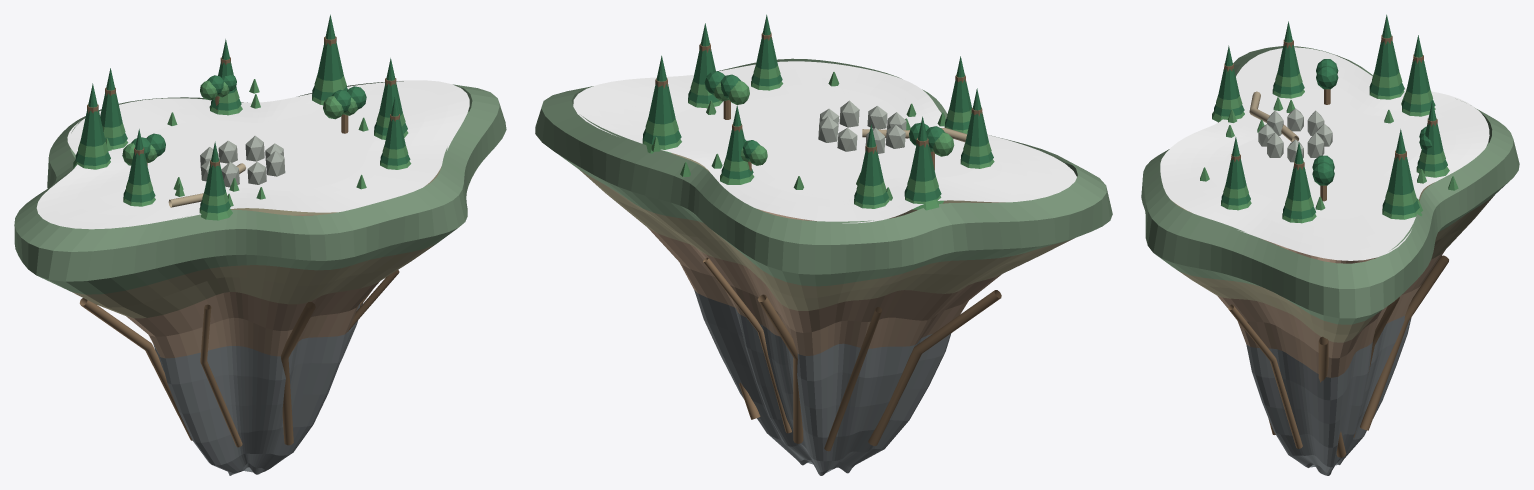
File: FI-011-Whisperpine-Crown.glb
3 renders of one model, left to right at view 1: azimuth 30°, elevation 25°; view 2: azimuth 150°, elevation 25°; view 3: azimuth 270°, elevation 25°, orthographic. The views are drawn at different scales.
Parts seen in each view (by area): view 1: FI-011_StratifiedFloatingCliff, FI-011_BuildableTop, FI-011_HangingRoot_04, FI-011_HangingRoot_06, FI-011_HangingRoot_05, Whisperpine_03_Bough_03, Whisperpine_00_Bough_03, Whisperpine_02_Bough_03, Whisperpine_01_Bough_03, Whisperpine_04_Bough_03, Whisperpine_06_Bough_03, Whisperpine_05_Bough_03; view 2: FI-011_StratifiedFloatingCliff, FI-011_BuildableTop, FI-011_HangingRoot_04, FI-011_HangingRoot_02, FI-011_HangingRoot_03, FI-011_HangingRoot_01, Whisperpine_03_Bough_03, Whisperpine_00_Bough_03, Whisperpine_02_Bough_03, Whisperpine_01_Bough_03, Whisperpine_06_Bough_03, Whisperpine_04_Bough_03 (+2 smaller); view 3: FI-011_StratifiedFloatingCliff, FI-011_BuildableTop, FI-011_HangingRoot_02, FI-011_HangingRoot_07, Whisperpine_03_Bough_03, Whisperpine_00_Bough_03, Whisperpine_04_Bough_03, Whisperpine_02_Bough_03, Whisperpine_01_Bough_03, Whisperpine_06_Bough_03, FI-011_HangingRoot_00, Whisperpine_05_Bough_03 (+5 smaller).
Part boxes in pixels (box(x1,y1,x2,y2)): FI-011_StratifiedFloatingCliff: box(14, 81, 506, 475); FI-011_BuildableTop: box(36, 80, 469, 229); FI-011_HangingRoot_04: box(79, 298, 192, 440); FI-011_HangingRoot_06: box(281, 302, 315, 445); FI-011_HangingRoot_05: box(200, 304, 242, 447); Whisperpine_03_Bough_03: box(317, 14, 343, 80); Whisperpine_00_Bough_03: box(80, 83, 105, 146); Whisperpine_02_Bough_03: box(100, 68, 122, 127); Whisperpine_01_Bough_03: box(128, 129, 150, 185); Whisperpine_04_Bough_03: box(379, 58, 402, 117); Whisperpine_06_Bough_03: box(204, 141, 225, 196); Whisperpine_05_Bough_03: box(385, 96, 405, 149); FI-011_StratifiedFloatingCliff: box(535, 58, 1112, 475); FI-011_BuildableTop: box(573, 61, 1076, 223); FI-011_HangingRoot_04: box(868, 290, 1001, 446); FI-011_HangingRoot_02: box(757, 294, 803, 443); FI-011_HangingRoot_03: box(824, 307, 881, 451); FI-011_HangingRoot_01: box(703, 257, 791, 433); Whisperpine_03_Bough_03: box(648, 55, 675, 124); Whisperpine_00_Bough_03: box(910, 116, 935, 181); Whisperpine_02_Bough_03: box(859, 124, 883, 186); Whisperpine_01_Bough_03: box(966, 88, 988, 146); Whisperpine_06_Bough_03: box(949, 56, 971, 112); Whisperpine_04_Bough_03: box(693, 23, 715, 84); FI-011_StratifiedFloatingCliff: box(1141, 46, 1519, 475); FI-011_BuildableTop: box(1160, 47, 1489, 260); FI-011_HangingRoot_02: box(1360, 255, 1448, 430); FI-011_HangingRoot_07: box(1228, 304, 1302, 448); Whisperpine_03_Bough_03: box(1388, 129, 1413, 194); Whisperpine_00_Bough_03: box(1374, 14, 1399, 77); Whisperpine_04_Bough_03: box(1287, 142, 1310, 201); Whisperpine_02_Bough_03: box(1407, 35, 1430, 94); Whisperpine_01_Bough_03: box(1277, 21, 1299, 77); Whisperpine_06_Bough_03: box(1218, 45, 1239, 99); FI-011_HangingRoot_00: box(1318, 336, 1346, 457); Whisperpine_05_Bough_03: box(1225, 137, 1246, 189).
Bounding box in the file's own units: 16.62 × 12.45 × 10.78.
